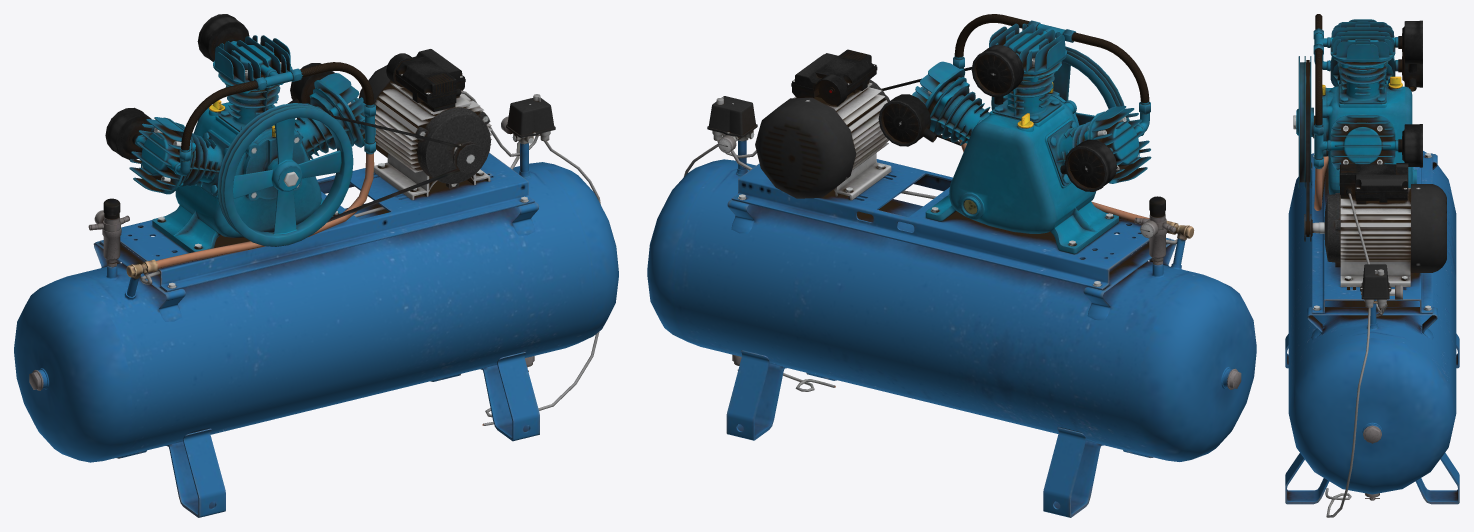
File: COMP-201.glb
3 renders of one model, left to right at view 1: azimuth 30°, elevation 25°; view 2: azimuth 150°, elevation 25°; view 3: azimuth 270°, elevation 25°, orthographic. The views are drawn at different scales.
Visible parts, largest first — view 1: Compressor, Wheel, Belt, Engine_Drive_Shaft; view 2: Compressor, Wheel; view 3: Compressor, Wheel, Belt, Engine_Drive_Shaft.
Boxes of the visible parts, <box> form: Compressor: <box>14,14,618,517</box>; Wheel: <box>217,103,353,246</box>; Belt: <box>327,114,464,222</box>; Engine_Drive_Shaft: <box>453,141,483,173</box>; Compressor: <box>647,14,1256,517</box>; Wheel: <box>991,46,1124,125</box>; Compressor: <box>1285,14,1459,517</box>; Wheel: <box>1293,56,1315,188</box>; Belt: <box>1306,60,1309,236</box>; Engine_Drive_Shaft: <box>1304,214,1324,241</box>.
Bounding box in the file's own units: 0.7814 × 0.5596 × 0.2351.
1 material, 1 textured.
